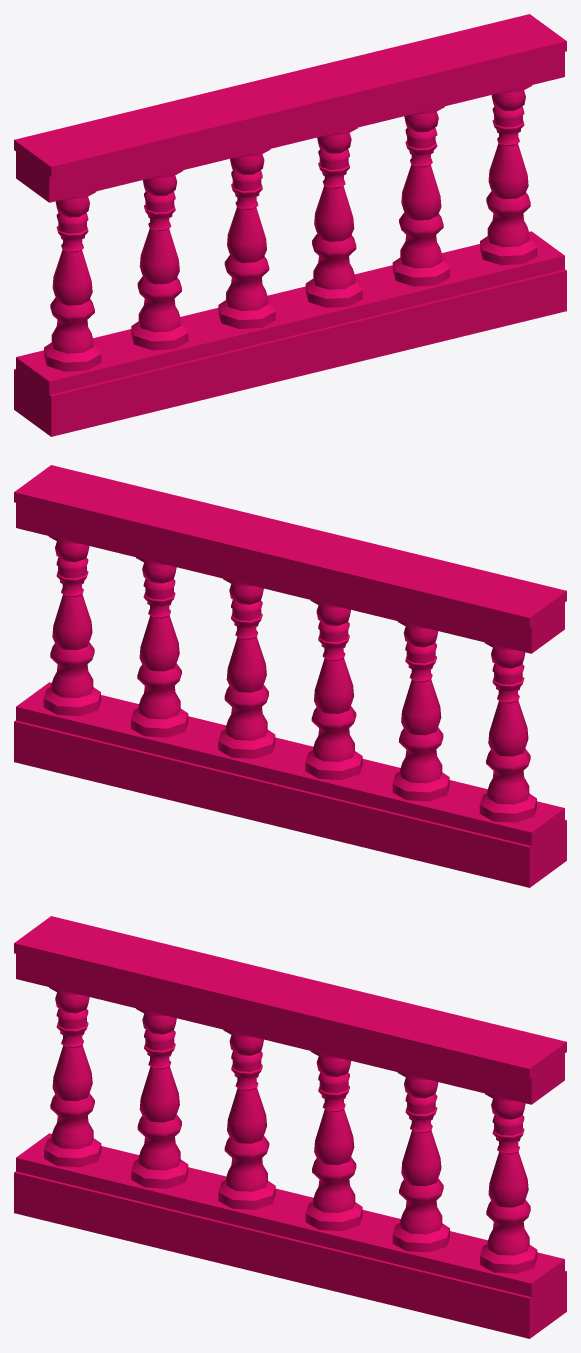
File: SM_handrail.fbx
The picture shows the model from 3 angles, top to bottom: view 1: azimuth 30°, elevation 25°; view 2: azimuth 150°, elevation 25°; view 3: azimuth 330°, elevation 25°; orthographic projection.
Parts seen in each view (by area): view 1: handrail1_1_low.001; view 2: handrail1_1_low.001; view 3: handrail1_1_low.001.
Boxes of the visible parts, <box> form: handrail1_1_low.001: <box>14,14,566,436</box>; handrail1_1_low.001: <box>14,465,566,887</box>; handrail1_1_low.001: <box>14,916,566,1338</box>.
Bounding box in the file's own units: 160 × 80 × 20.
